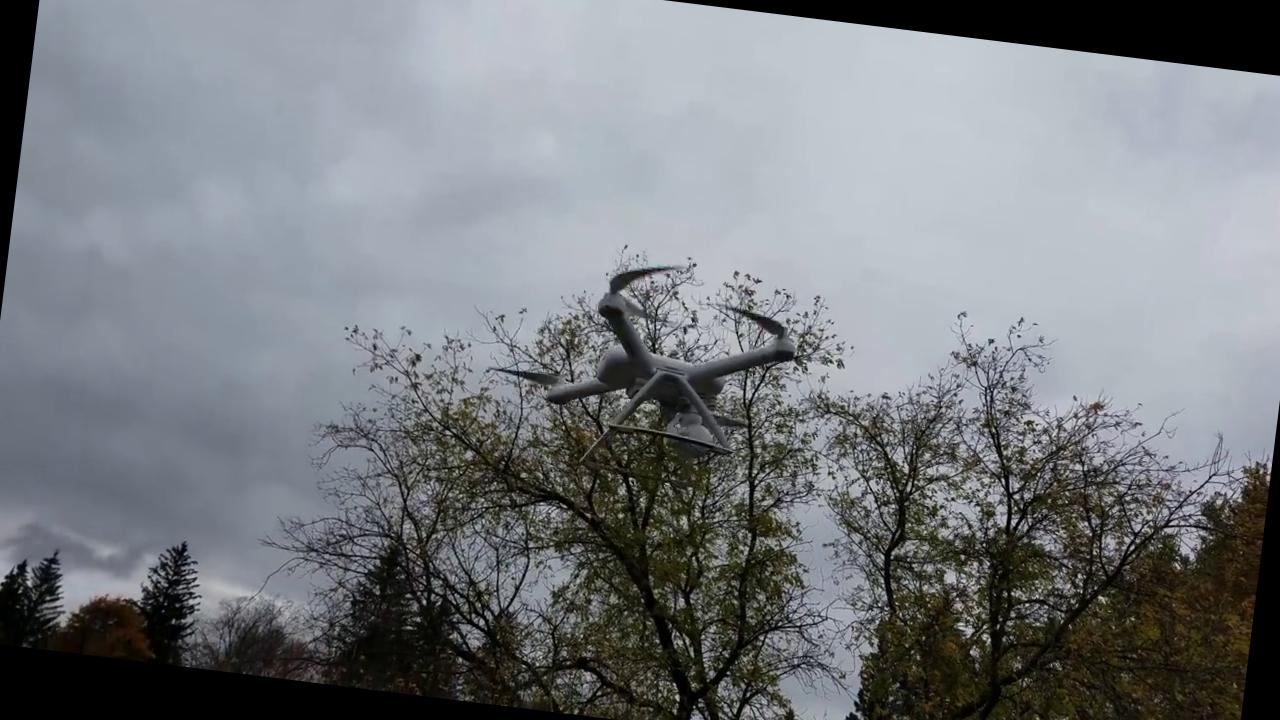drone: (488, 254, 831, 482)
